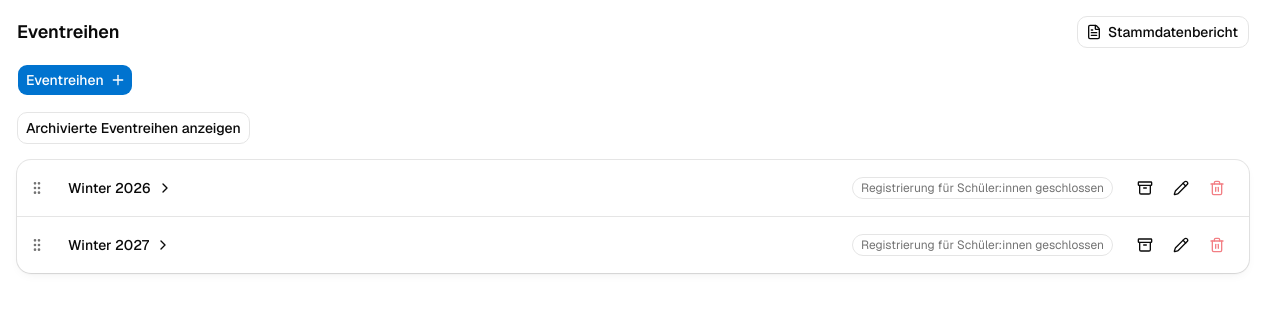
Test: EventSeriesView — flags › surfaces a refused flag change instead of failing silently
Click the button named "Eventreihe Winter 2027 archivieren".
click(1145, 245)  # box [1129,229,1161,261]
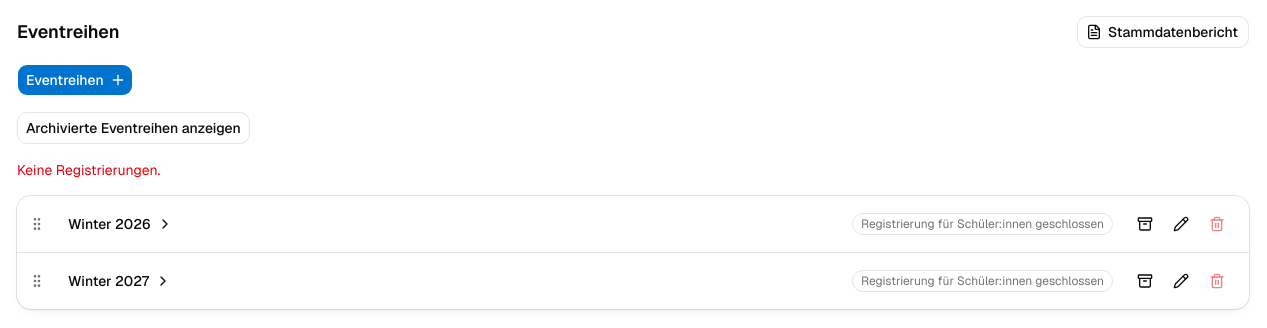
expect the message reads "Keine Registrierungen.": met, box [17,161,160,179]
